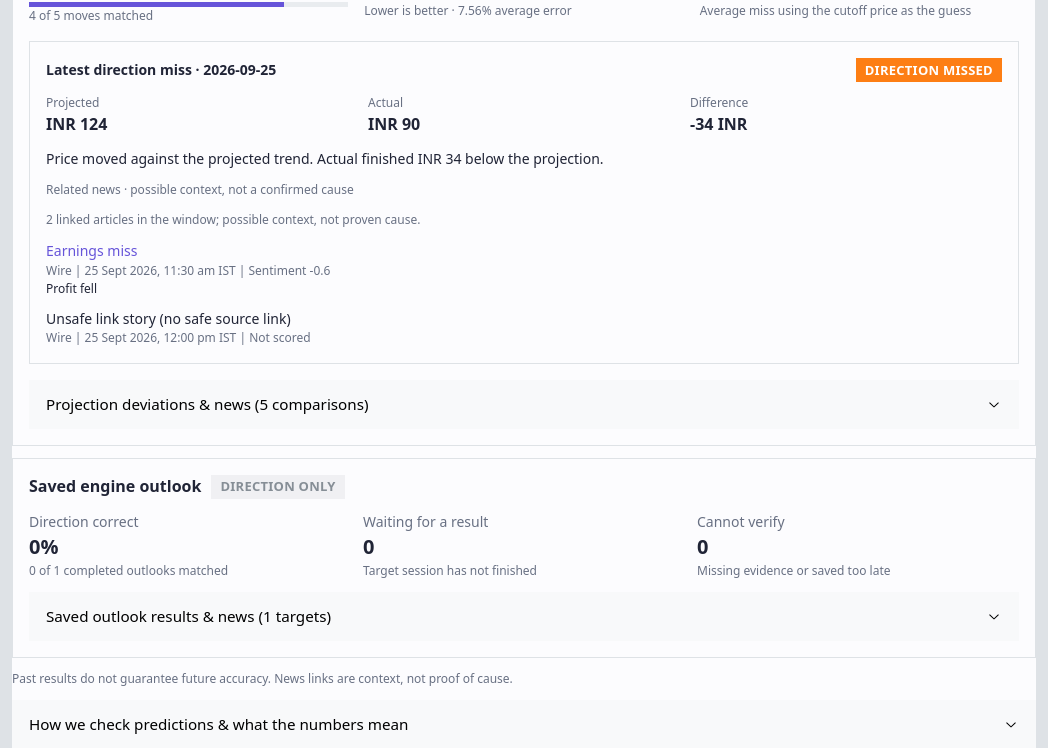
it: keeps methodology and full histories collapsed until requested
(page scrolled)
Step 1. Click the button "How we check predictions & what the numbers mean" → (219, 724), box [13, 700, 1035, 747]
(page scrolled)
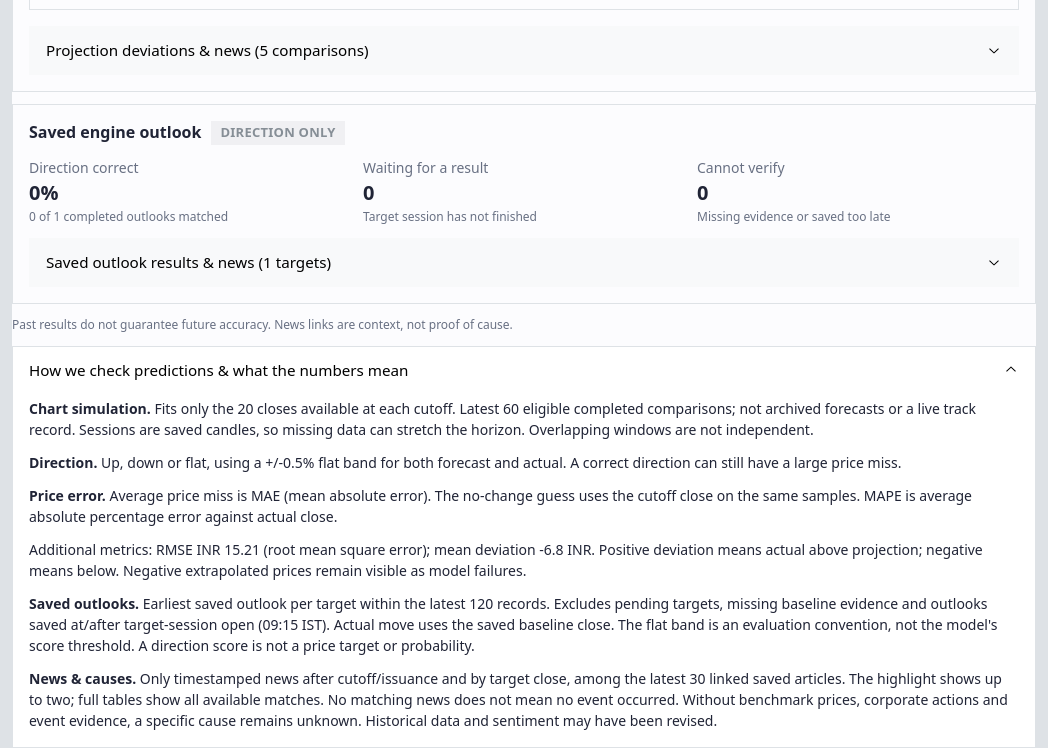
Check: the text "Additional metrics:" is shown, box [29, 540, 224, 559]
Check: the text "A correct direction can still have a large price miss" is shown, box [303, 453, 902, 472]
